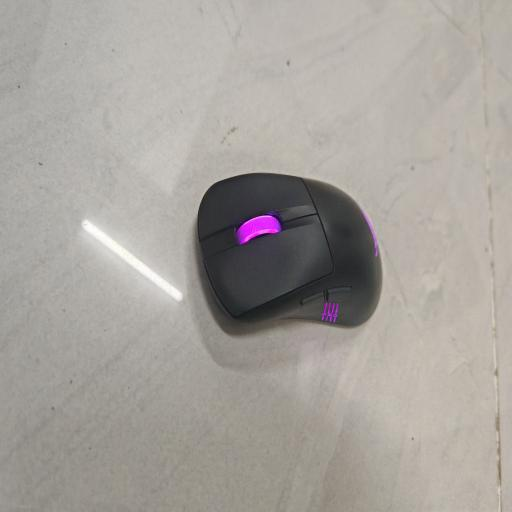mouse: (198, 172, 382, 326)
